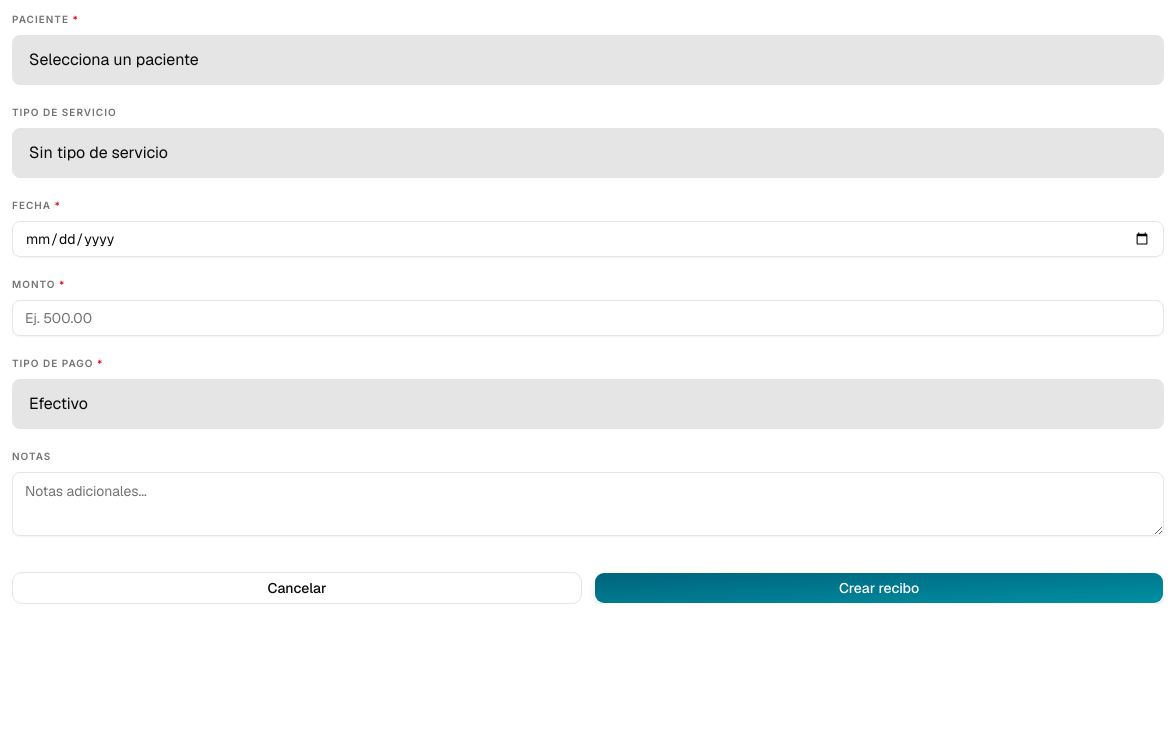
Test case: ReceiptForm › shows plan field when payment type is BENEFIT
Step 1. Select "Beneficio" in the dropdown labelled "Tipo de pago *" → (588, 404), box x1=12 y1=379 x2=1164 y2=429
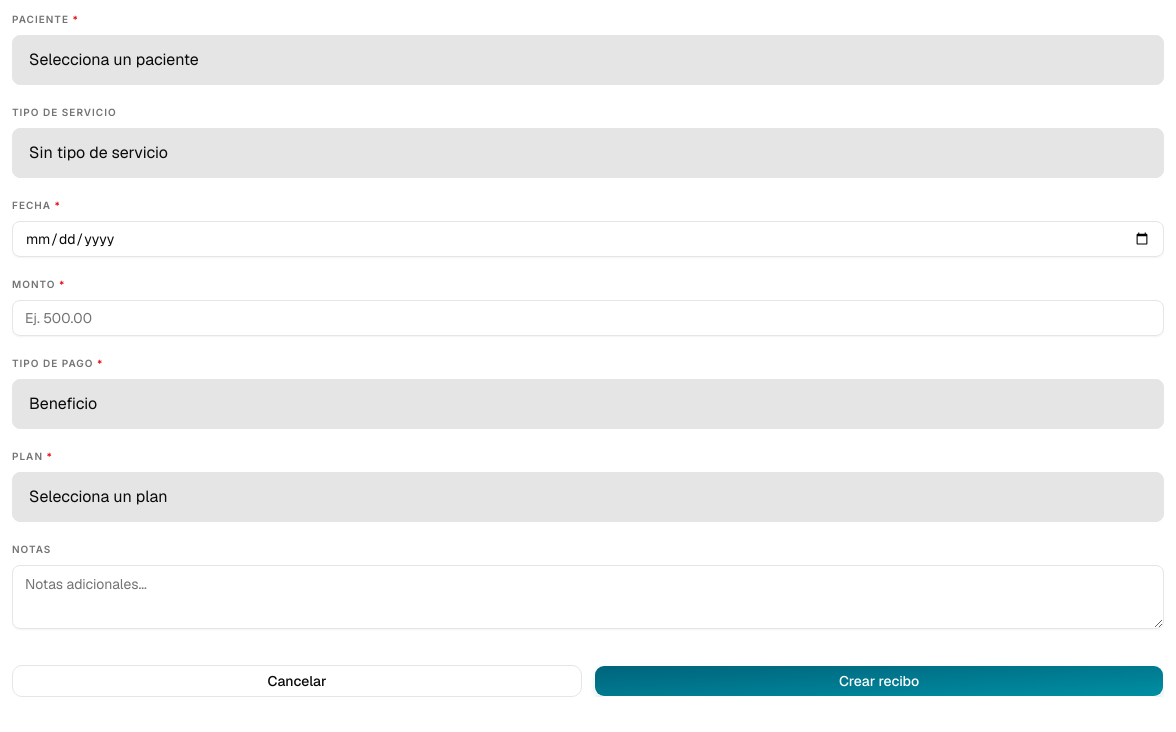
Result: the dropdown labelled "Plan *" is shown at x1=12 y1=472 x2=1164 y2=522
